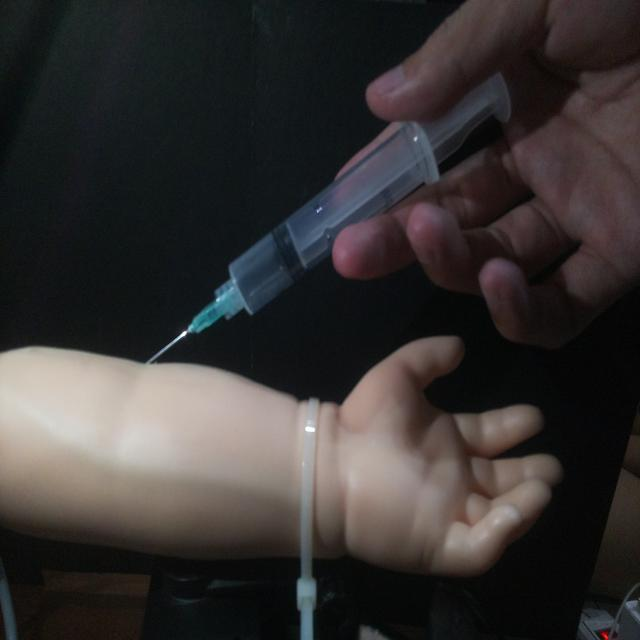26deg: (140, 67, 515, 367)
